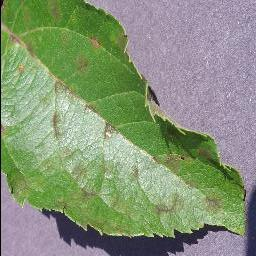apple healthy: (0, 0, 247, 240)
